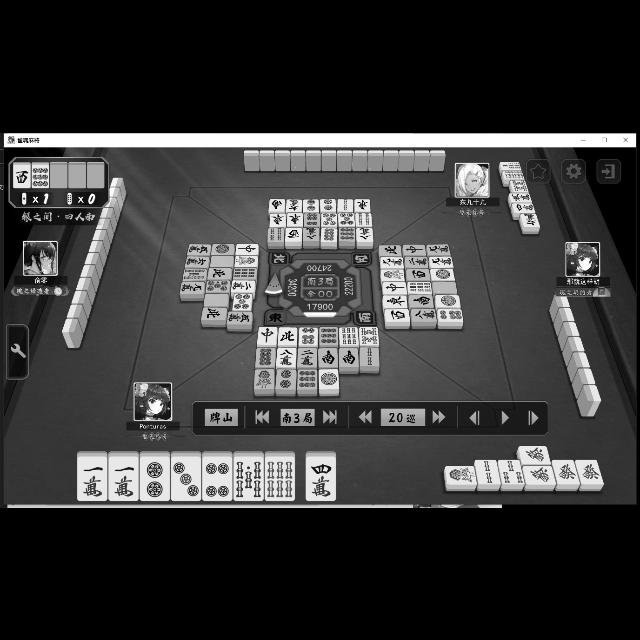1m: (109, 457, 139, 501), (78, 458, 108, 500)
1p: (318, 369, 339, 388), (436, 294, 459, 308), (431, 268, 455, 280), (212, 243, 234, 254)
1s: (445, 465, 477, 483), (254, 368, 274, 389), (234, 255, 260, 267), (382, 268, 404, 282)
2m: (298, 346, 316, 366), (404, 255, 428, 268), (231, 280, 255, 292)
2p: (139, 456, 169, 500), (276, 369, 296, 389), (319, 198, 336, 212), (303, 198, 319, 212)
2s: (476, 458, 500, 484), (359, 346, 378, 366), (338, 198, 352, 212)
3p: (171, 456, 201, 500)
3s: (499, 459, 525, 483)
4m: (306, 456, 336, 499), (513, 202, 535, 212)
4p: (202, 456, 232, 499)
4s: (268, 227, 284, 241), (356, 212, 372, 225)
5m: (227, 310, 253, 324), (187, 242, 211, 254), (508, 192, 532, 202)
5p: (206, 279, 230, 293), (233, 292, 251, 310), (338, 212, 354, 226), (322, 212, 336, 225)
5s: (234, 456, 264, 499), (183, 268, 207, 280)
6m: (184, 255, 210, 267), (522, 213, 540, 227), (286, 198, 302, 212)
6p: (438, 308, 464, 322), (299, 326, 317, 346), (303, 212, 319, 226)
6s: (264, 457, 296, 501), (503, 170, 525, 178)
7s: (500, 160, 522, 170)
8m: (278, 346, 294, 366), (412, 308, 436, 320), (356, 227, 374, 241), (303, 227, 319, 241)
8p: (256, 346, 276, 368), (320, 228, 338, 240)
8s: (359, 326, 378, 344), (510, 179, 530, 191)
9m: (180, 281, 204, 293), (430, 256, 454, 268), (380, 256, 402, 268), (427, 243, 449, 254)
9p: (32, 164, 48, 188), (297, 369, 317, 388), (318, 326, 338, 344), (339, 227, 355, 240)
9s: (339, 326, 358, 344), (408, 280, 432, 294), (234, 267, 256, 279)
chun: (382, 280, 406, 294), (258, 326, 276, 344), (404, 243, 426, 255), (236, 243, 258, 254)
haku: (204, 292, 228, 306), (433, 280, 457, 294), (210, 256, 232, 266)
hatsu: (576, 459, 604, 483), (554, 459, 580, 483), (524, 466, 556, 484), (520, 445, 550, 463)
nan: (318, 347, 338, 367), (338, 347, 358, 367), (409, 294, 435, 306), (270, 198, 284, 212)
pe: (278, 326, 298, 346), (202, 306, 226, 320), (208, 266, 232, 278), (378, 243, 402, 254)
sha: (14, 163, 31, 187), (386, 308, 408, 322), (406, 268, 430, 280), (286, 227, 302, 241)
tou: (382, 294, 408, 308), (270, 211, 286, 225), (356, 198, 370, 212), (288, 212, 302, 225)
